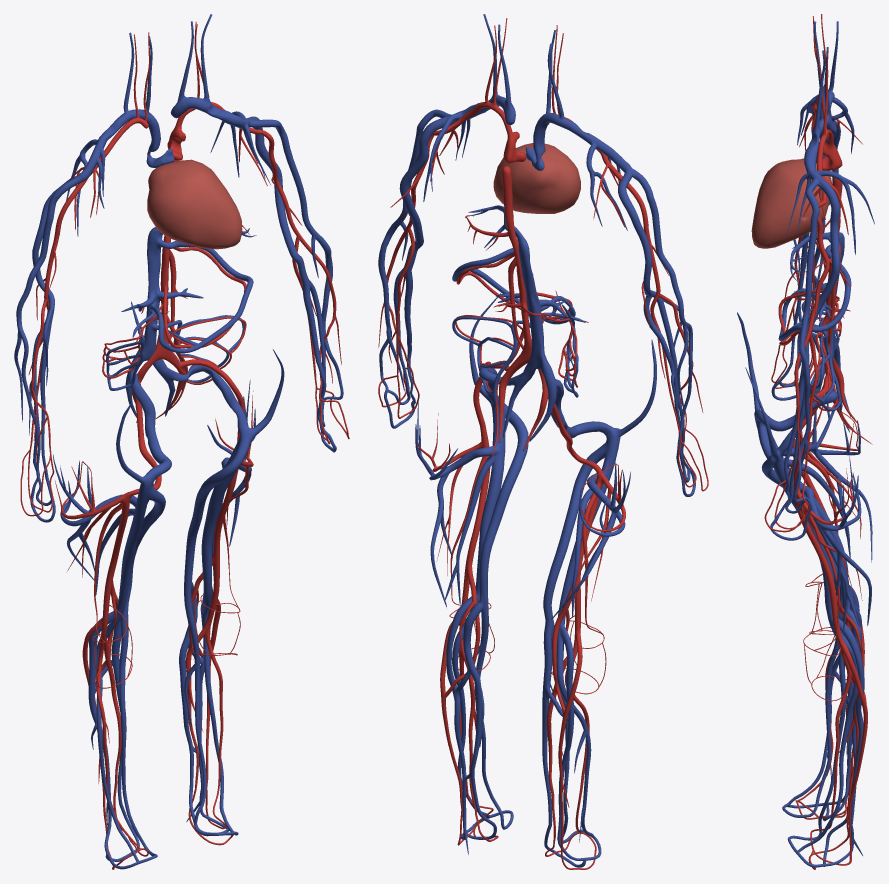
File: pediatric_infant_male.cardiovascular.LOD0.glb
3 renders of one model, left to right at view 1: azimuth 30°, elevation 25°; view 2: azimuth 150°, elevation 25°; view 3: azimuth 270°, elevation 25°, orthographic. The views are drawn at different scales.
Visible parts, largest first — view 1: PEDIATRIC.INFANT.MALE.CARDIOVASCULAR.BLOOD_IN_LARGE_VEINS, PEDIATRIC.INFANT.MALE.CARDIOVASCULAR.BLOOD_IN_LARGE_ARTERIES, PEDIATRIC.INFANT.MALE.CARDIOVASCULAR.HEART_WALL; view 2: PEDIATRIC.INFANT.MALE.CARDIOVASCULAR.BLOOD_IN_LARGE_VEINS, PEDIATRIC.INFANT.MALE.CARDIOVASCULAR.BLOOD_IN_LARGE_ARTERIES, PEDIATRIC.INFANT.MALE.CARDIOVASCULAR.HEART_WALL; view 3: PEDIATRIC.INFANT.MALE.CARDIOVASCULAR.BLOOD_IN_LARGE_VEINS, PEDIATRIC.INFANT.MALE.CARDIOVASCULAR.BLOOD_IN_LARGE_ARTERIES, PEDIATRIC.INFANT.MALE.CARDIOVASCULAR.HEART_WALL.
Part boxes in pixels (<box>): PEDIATRIC.INFANT.MALE.CARDIOVASCULAR.BLOOD_IN_LARGE_VEINS: <box>14,14,343,869</box>; PEDIATRIC.INFANT.MALE.CARDIOVASCULAR.BLOOD_IN_LARGE_ARTERIES: <box>20,22,349,869</box>; PEDIATRIC.INFANT.MALE.CARDIOVASCULAR.HEART_WALL: <box>147,159,242,249</box>; PEDIATRIC.INFANT.MALE.CARDIOVASCULAR.BLOOD_IN_LARGE_VEINS: <box>378,14,695,867</box>; PEDIATRIC.INFANT.MALE.CARDIOVASCULAR.BLOOD_IN_LARGE_ARTERIES: <box>378,18,708,869</box>; PEDIATRIC.INFANT.MALE.CARDIOVASCULAR.HEART_WALL: <box>493,143,580,213</box>; PEDIATRIC.INFANT.MALE.CARDIOVASCULAR.BLOOD_IN_LARGE_VEINS: <box>737,21,874,867</box>; PEDIATRIC.INFANT.MALE.CARDIOVASCULAR.BLOOD_IN_LARGE_ARTERIES: <box>764,14,872,869</box>; PEDIATRIC.INFANT.MALE.CARDIOVASCULAR.HEART_WALL: <box>751,158,832,248</box>.
Size of the model in its own units: 0.2559 by 0.632 by 0.0967.
